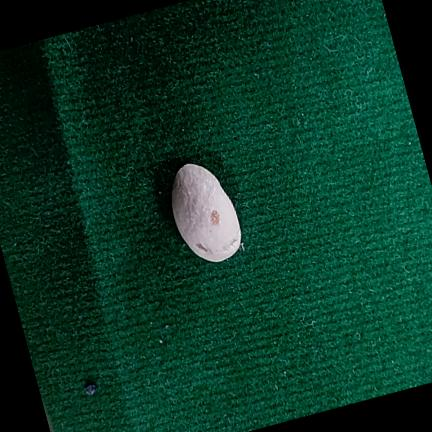immature: (172, 163, 241, 262)
